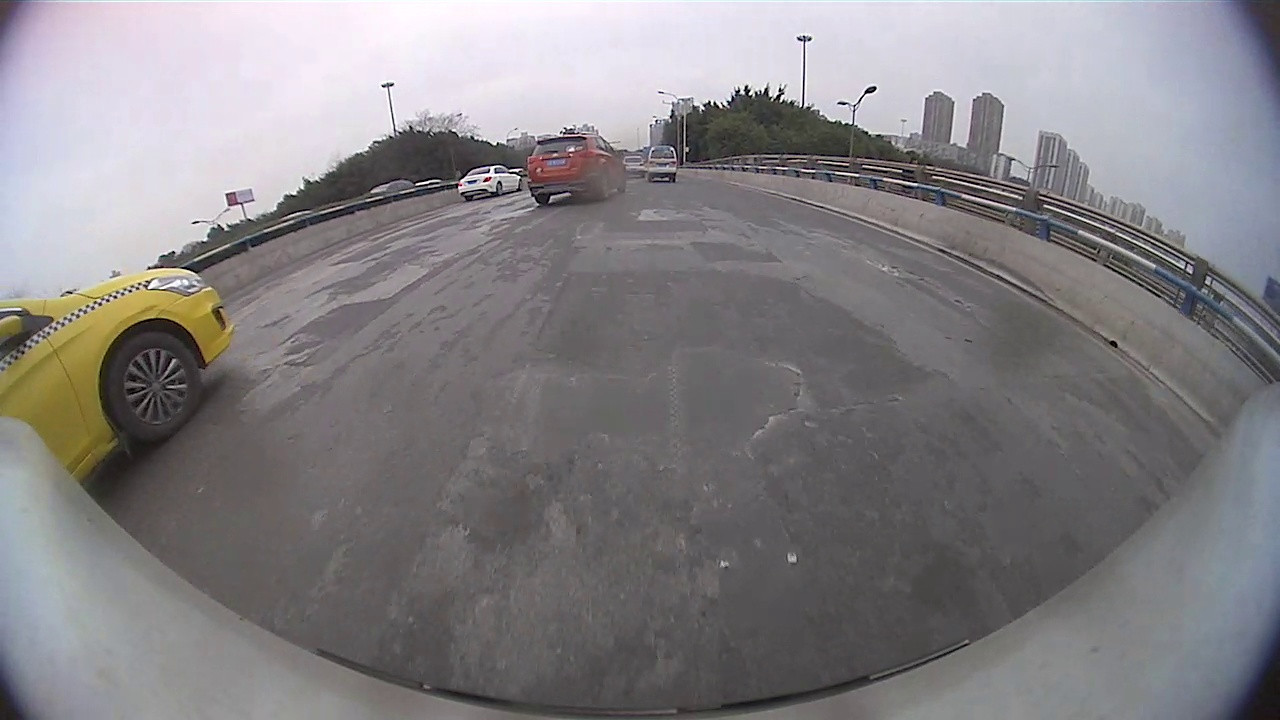car: (1, 265, 239, 490), (526, 132, 627, 207), (455, 163, 526, 202), (645, 145, 678, 185)
front: (105, 328, 201, 441)
rear: (597, 171, 616, 204), (495, 182, 506, 197)
